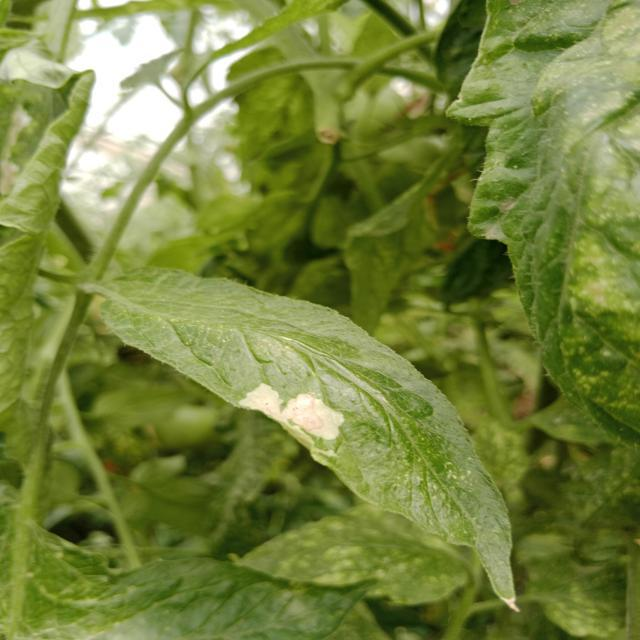Tuta absoluta: (229, 368, 350, 443)
